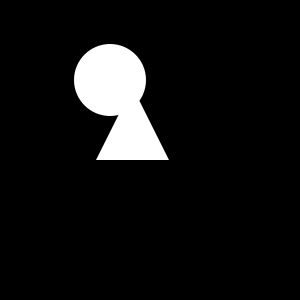rectangle: (74, 44, 146, 116)
triangle: (96, 87, 169, 160)
